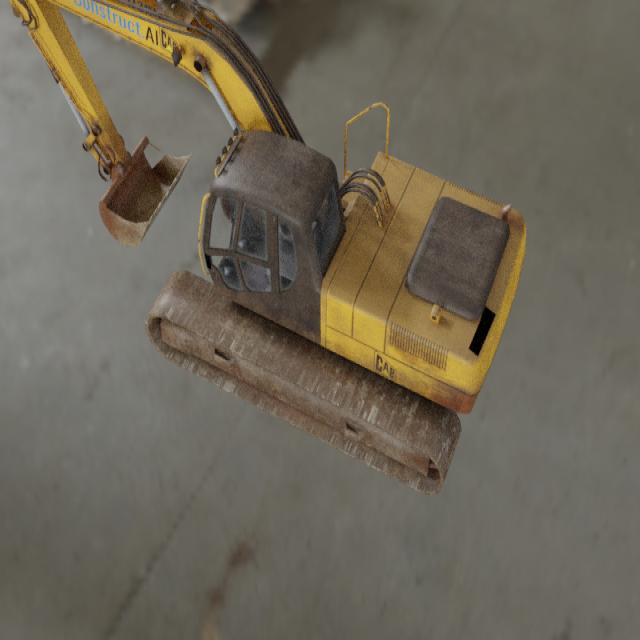excavator: (9, 0, 526, 496)
